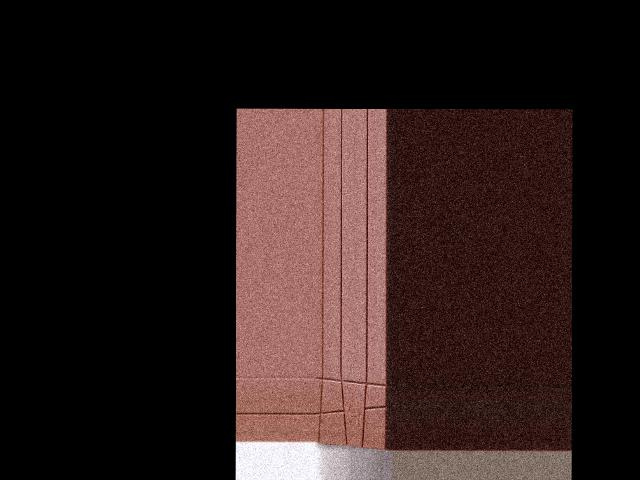chocolate: (315, 373, 389, 451)
